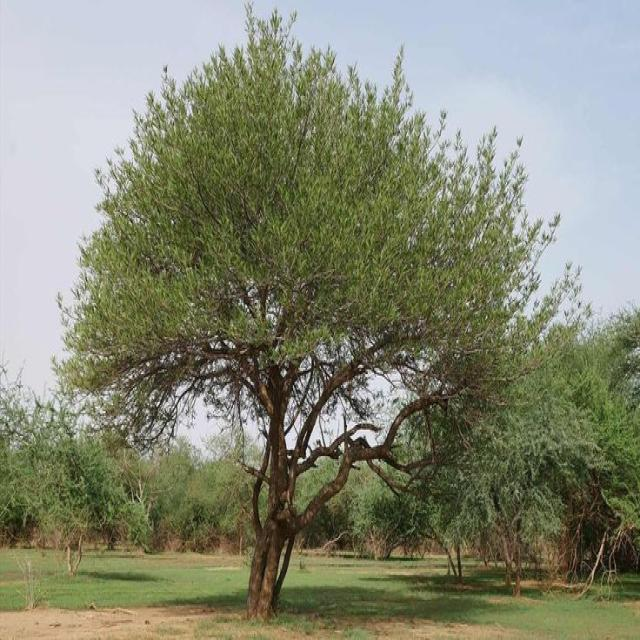Acacia: (97, 68, 454, 602)
